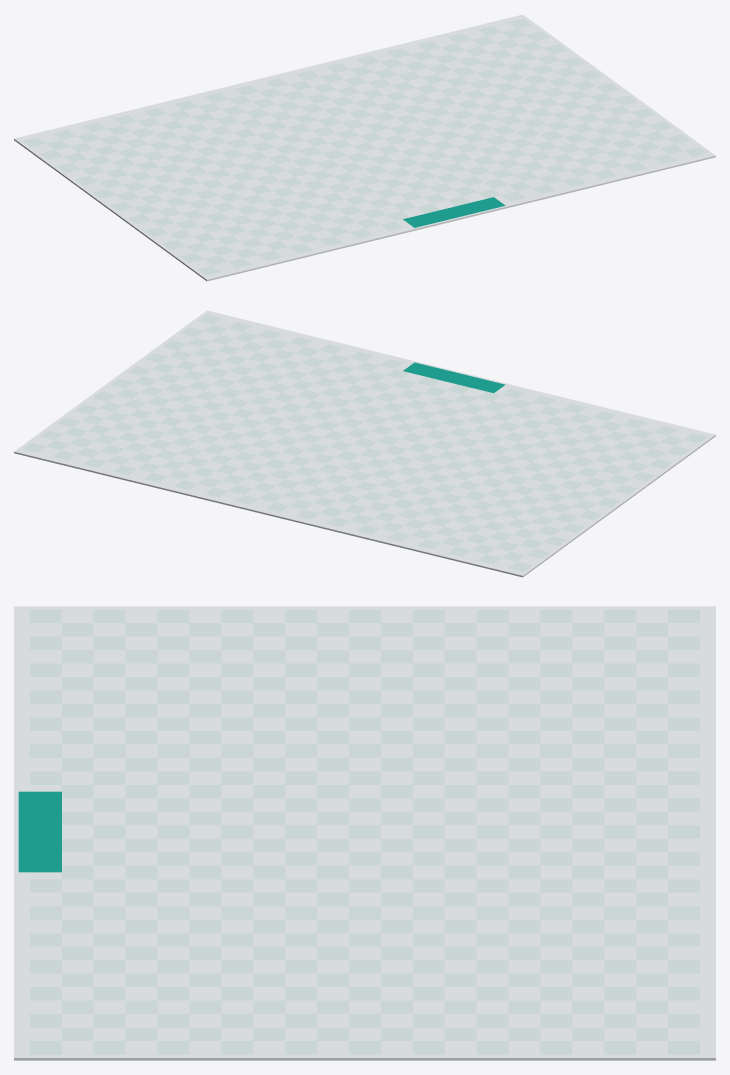
Rendered from CM_Shell_Floor_Store.fbx.
3 renders of one model, top to bottom at view 1: azimuth 30°, elevation 25°; view 2: azimuth 150°, elevation 25°; view 3: azimuth 270°, elevation 25°, orthographic. The views are drawn at different scales.
Parts seen in each view (by area): view 1: Floor; view 2: Floor; view 3: Floor.
Boxes of the visible parts, left/top/right/bottom form: Floor: left=14, top=14, right=715, bottom=281; Floor: left=14, top=310, right=715, bottom=577; Floor: left=14, top=606, right=715, bottom=1060.
Bounding box in the file's own units: 134 × 88 × 0.402.
1 material, 1 textured.
